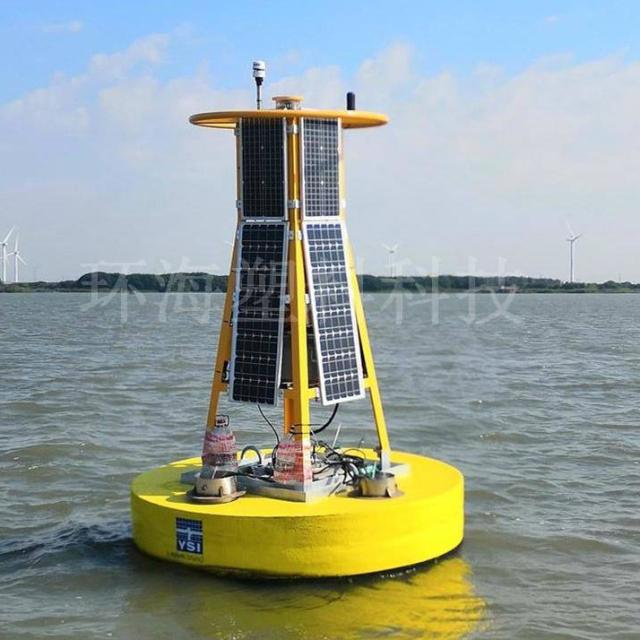buoy: (127, 59, 470, 574)
